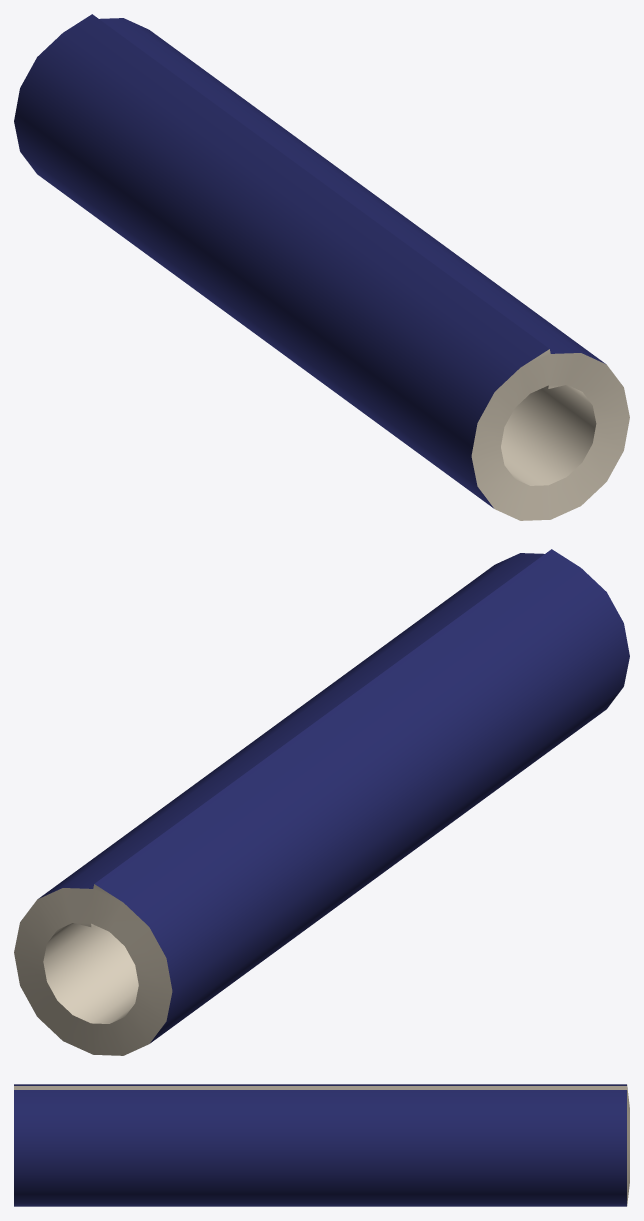
File: blueprint_roll.fbx
3 views of the same model, one above another, from view 1: azimuth 30°, elevation 25°; view 2: azimuth 150°, elevation 25°; view 3: azimuth 270°, elevation 25° (orthographic). The views are drawn at different scales.
Visible parts, largest first — view 1: Blueprint_Roll; view 2: Blueprint_Roll; view 3: Blueprint_Roll.
Boxes of the visible parts, x1,y1,x2,y2 form: Blueprint_Roll: [14, 14, 629, 520]; Blueprint_Roll: [14, 549, 629, 1055]; Blueprint_Roll: [14, 1084, 629, 1206].
Bounding box in the file's own units: 20 × 20.63 × 100.
